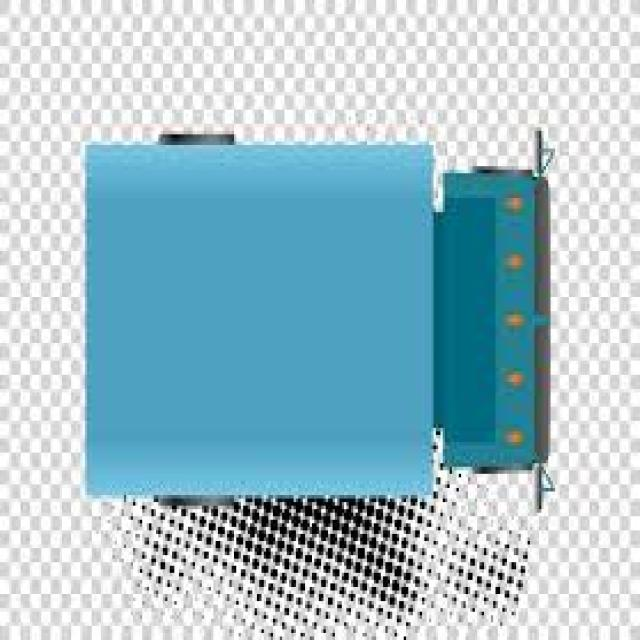truck: (80, 131, 561, 507)
